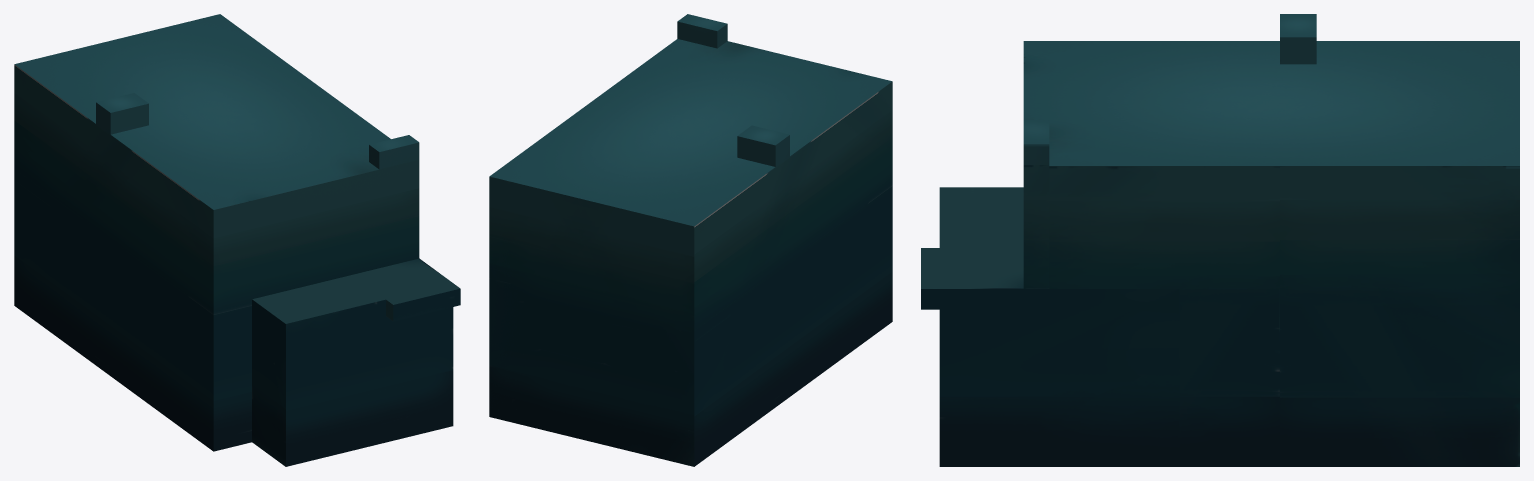
Rendered from Arbusto 1.obj.
The picture shows the model from 3 angles, left to right: view 1: azimuth 30°, elevation 25°; view 2: azimuth 150°, elevation 25°; view 3: azimuth 270°, elevation 25°; orthographic projection. The views are drawn at different scales.
Visible parts, largest first — view 1: Arbusto 1; view 2: Arbusto 1; view 3: Arbusto 1.
Part boxes in pixels (x1,y1,x2,y2): Arbusto 1: (14, 14, 460, 466); Arbusto 1: (489, 14, 892, 466); Arbusto 1: (921, 14, 1519, 466).
Bounding box in the file's own units: 0.4921 × 0.6015 × 0.9953.
Materials: 1 (1 with a texture image).
